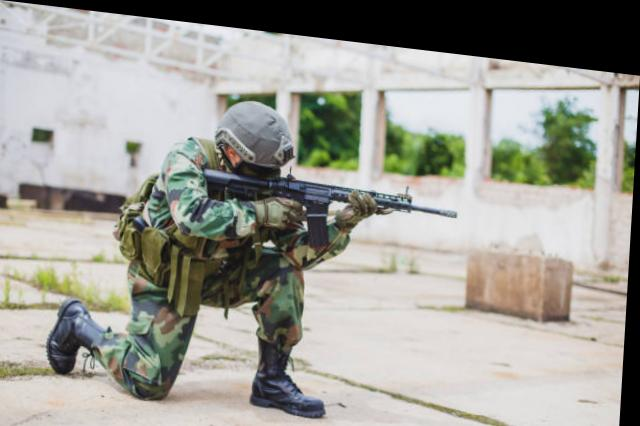other: (63, 81, 340, 408)
